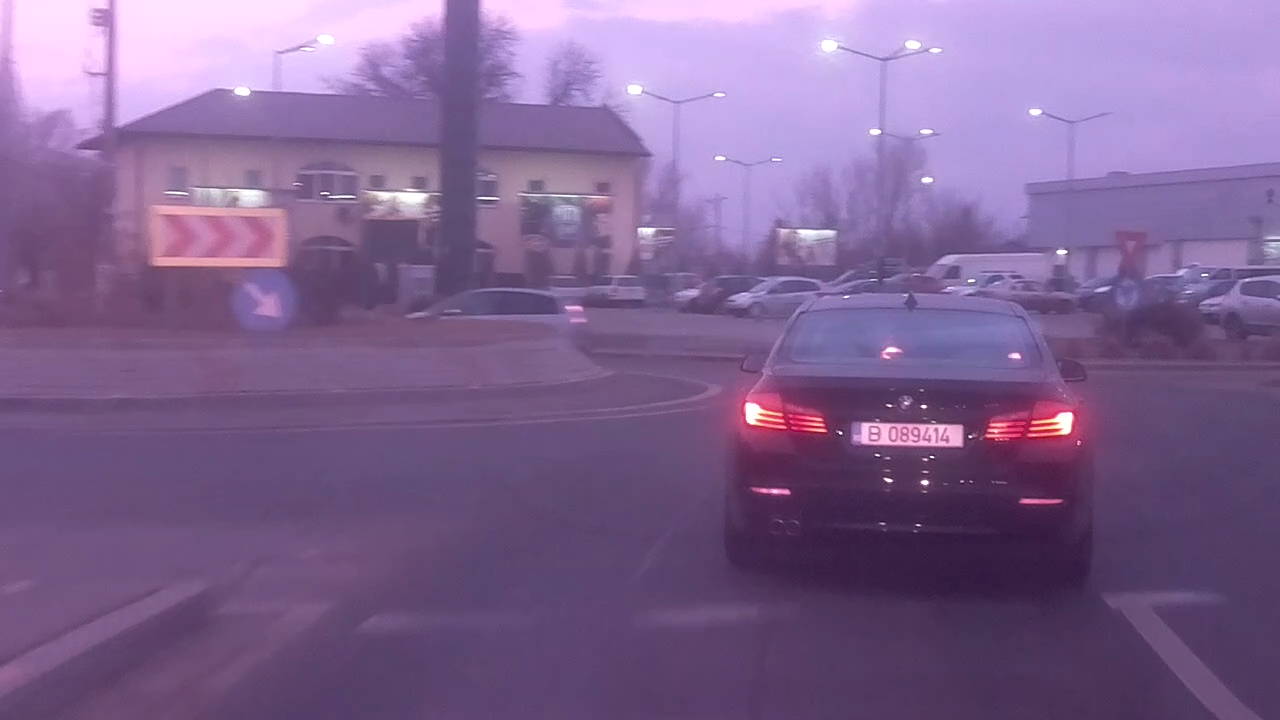license-plate: (846, 418, 968, 451)
